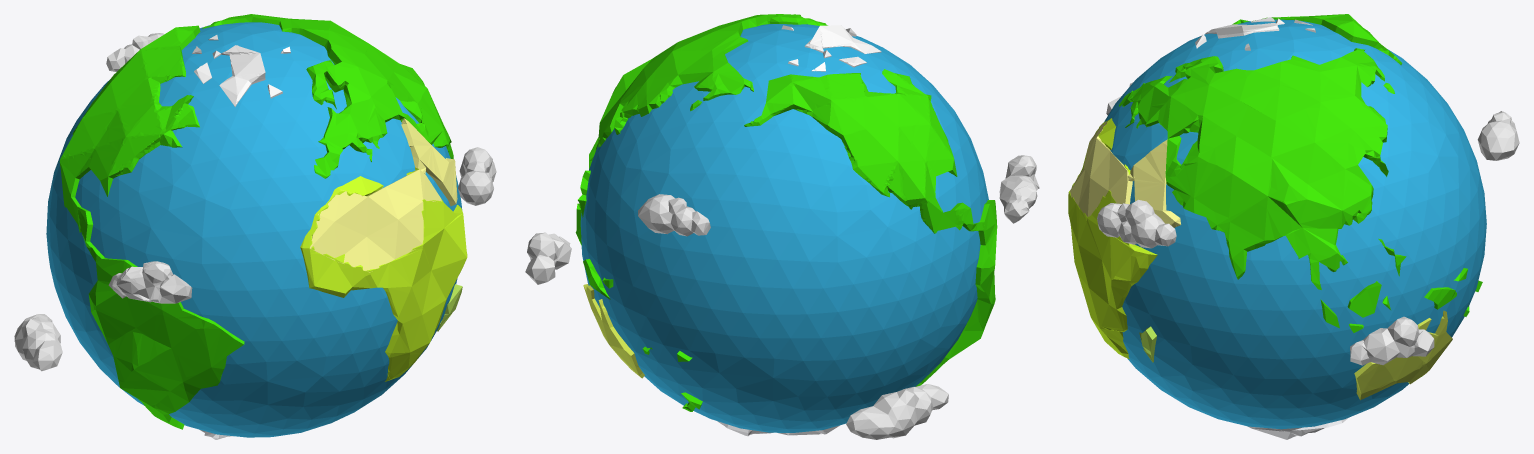
The picture shows the model from 3 angles, left to right: view 1: azimuth 30°, elevation 25°; view 2: azimuth 150°, elevation 25°; view 3: azimuth 270°, elevation 25°; orthographic projection.
Visible parts, largest first — view 1: Икосфера, usa.001, usa, russia, africa, africa.001, cloud1, grend, cloud1.004, oae, cloud1.003, cloud1.002; view 2: Икосфера, usa.001, russia, cloud1.004, usa, cloud1.002, cloud1, cloud1.001, grend, indos, aust; view 3: Икосфера, russia, africa, africa.001, aust, cloud1.003, cloud1.001, oae, indos, cloud1.002, usa.001, grend (+1 smaller).
Part boxes in pixels (x1,y1,x2,y2): Икосфера: (46, 22, 462, 437); usa.001: (59, 25, 200, 262); usa: (88, 256, 244, 429); russia: (202, 14, 453, 178); africa: (300, 167, 467, 381); africa.001: (309, 169, 441, 272); cloud1: (108, 261, 192, 303); grend: (192, 35, 290, 106); cloud1.004: (14, 314, 62, 371); oae: (401, 118, 457, 206); cloud1.003: (458, 147, 496, 205); cloud1.002: (106, 33, 164, 71); Икосфера: (580, 24, 988, 432); usa.001: (744, 69, 984, 234); russia: (589, 14, 827, 169); cloud1.004: (846, 384, 948, 439); usa: (915, 200, 997, 386); cloud1.002: (638, 194, 710, 236); cloud1: (999, 155, 1039, 223); cloud1.001: (525, 232, 571, 284); grend: (781, 25, 881, 71); indos: (575, 170, 702, 411); aust: (583, 284, 644, 378); Икосфера: (1104, 19, 1486, 429); russia: (1119, 48, 1394, 289); africa: (1068, 118, 1157, 359); africa.001: (1070, 121, 1132, 219); aust: (1354, 310, 1452, 400); cloud1.003: (1097, 199, 1176, 248); cloud1.001: (1350, 316, 1434, 365); oae: (1128, 139, 1180, 227); indos: (1320, 238, 1482, 332); cloud1.002: (1477, 111, 1519, 160); usa.001: (1232, 14, 1402, 64); grend: (1195, 17, 1315, 50).
Bounding box in the file's own units: 18.8 × 17.96 × 18.66.
